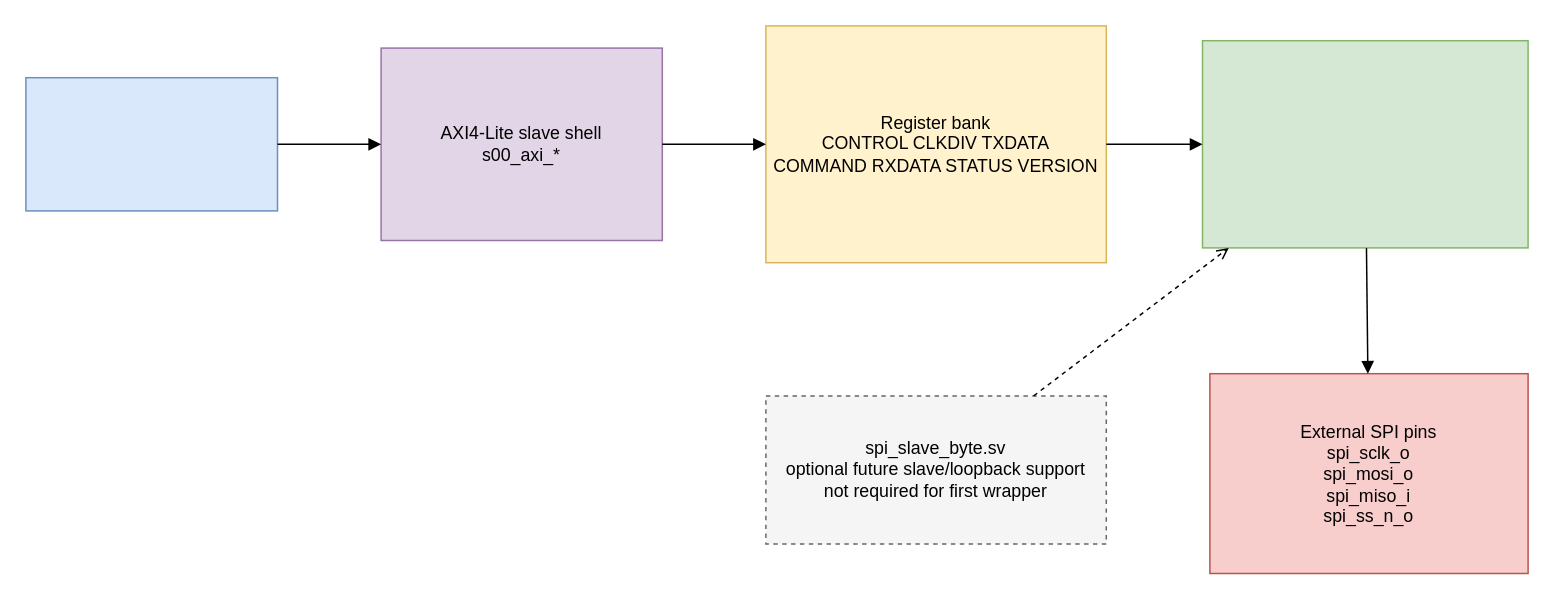
Some shapes in this 1554 by 599 pixel diagram are drawn without their labels. The shapes that lost their labels are listed below. From the top down, each one's centre as x and y in pixels, then its label:
At (x=151, y=143): "MicroBlaze AXI4-Lite master".
At (x=1364, y=143): "spi_master_byte.sv start clk_div cpol cpha tx_data rx_data busy done".
